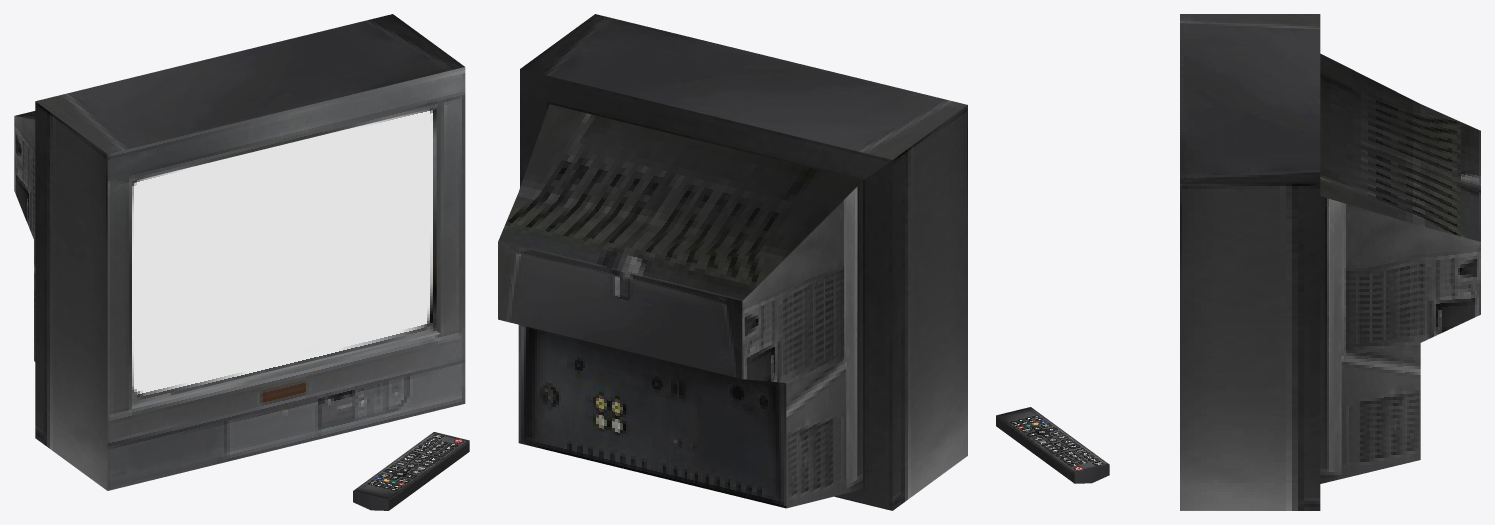
The model's file is psx_crt_tv.glb.
3 renders of one model, left to right at view 1: azimuth 30°, elevation 25°; view 2: azimuth 150°, elevation 25°; view 3: azimuth 270°, elevation 25°, orthographic. The views are drawn at different scales.
Parts seen in each view (by area): view 1: TVCRT, TVRemote; view 2: TVCRT; view 3: TVCRT, TVRemote.
Boxes of the visible parts, bbox=[...] form: TVCRT: bbox=[14, 14, 465, 490]; TVRemote: bbox=[353, 432, 469, 510]; TVCRT: bbox=[498, 14, 967, 510]; TVCRT: bbox=[1180, 14, 1480, 510]; TVRemote: bbox=[996, 407, 1109, 483].
Size of the model in its own units: 0.6 by 0.54 by 0.7248.
1 material, 1 textured.
